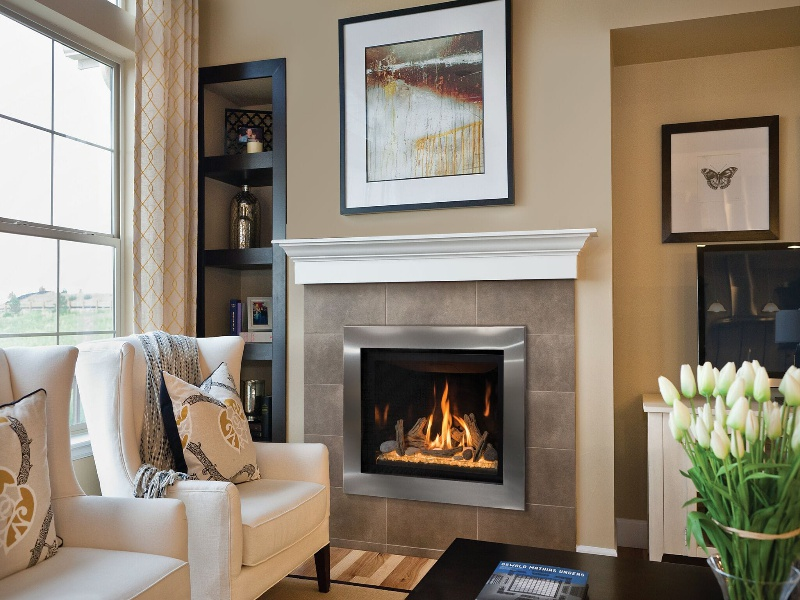fire: (413, 381, 471, 442), (483, 387, 492, 414)
